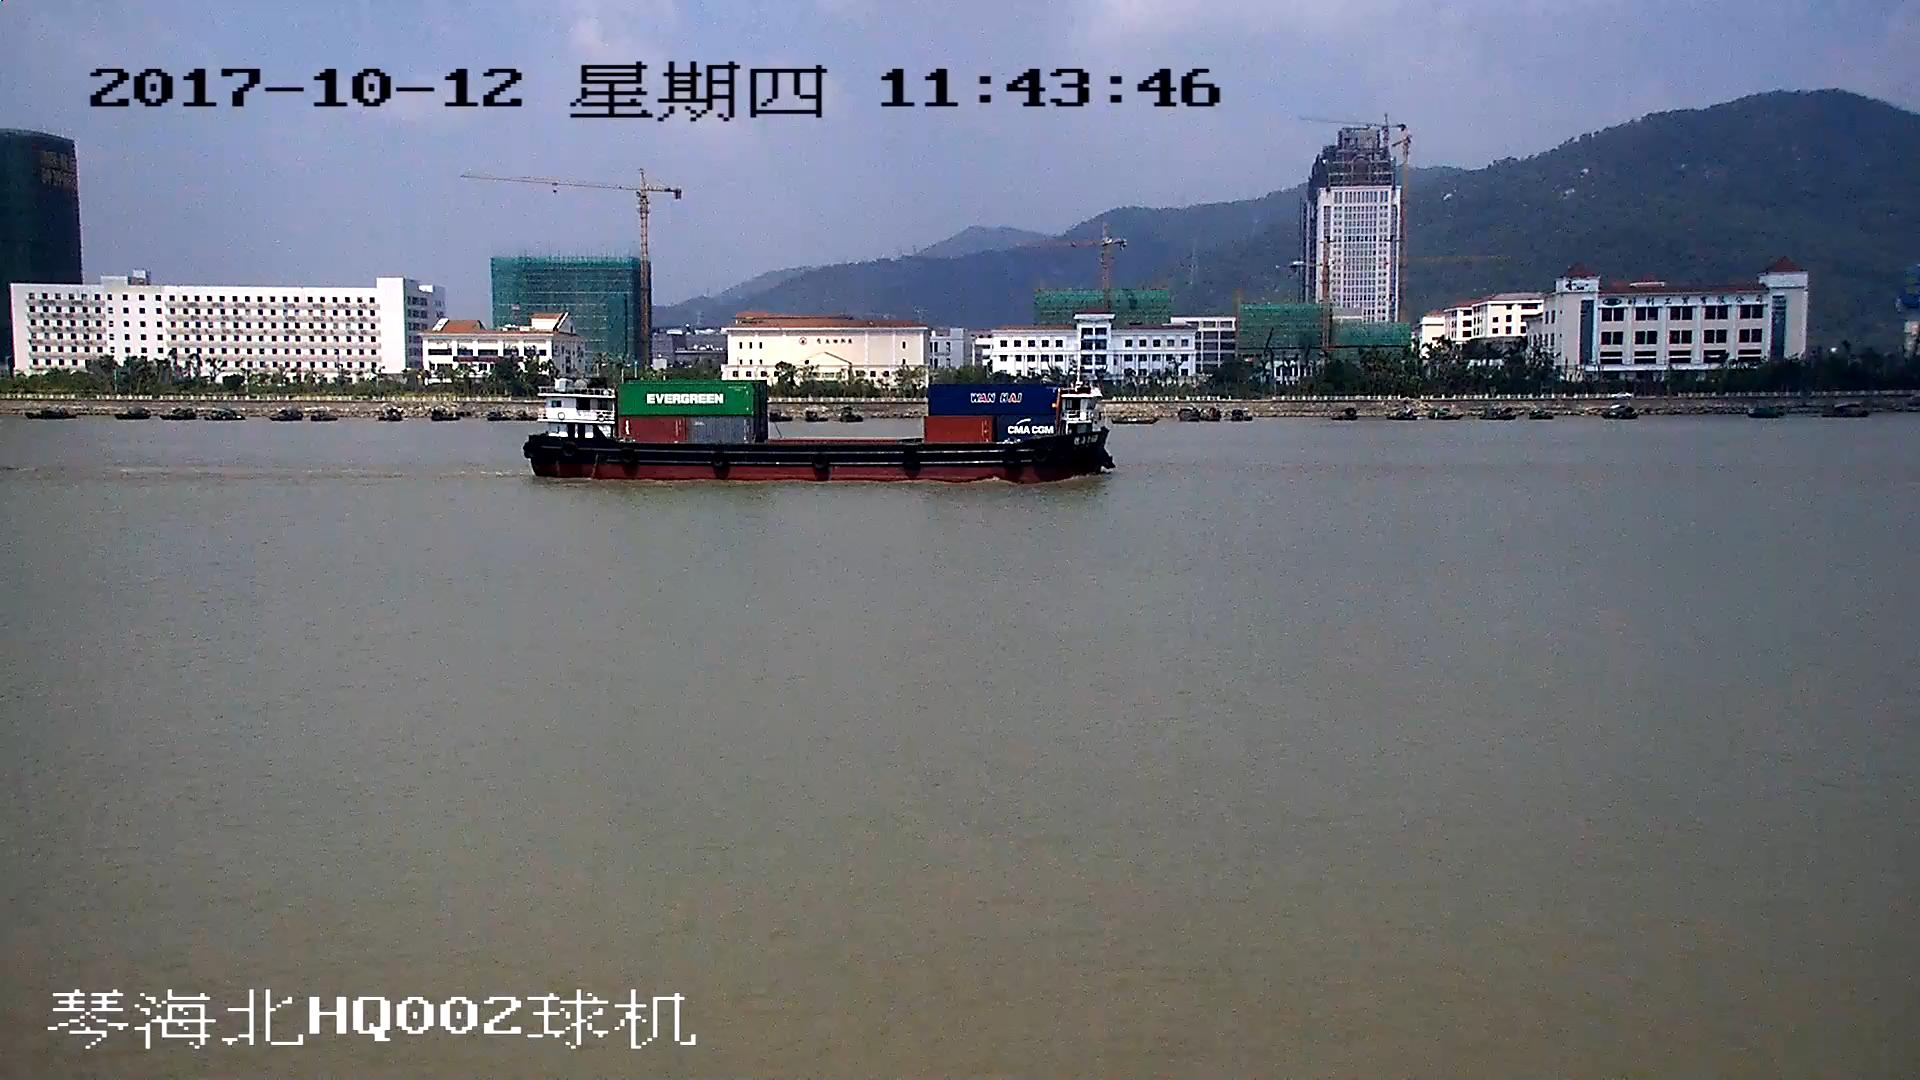container ship: (530, 373, 1110, 486)
